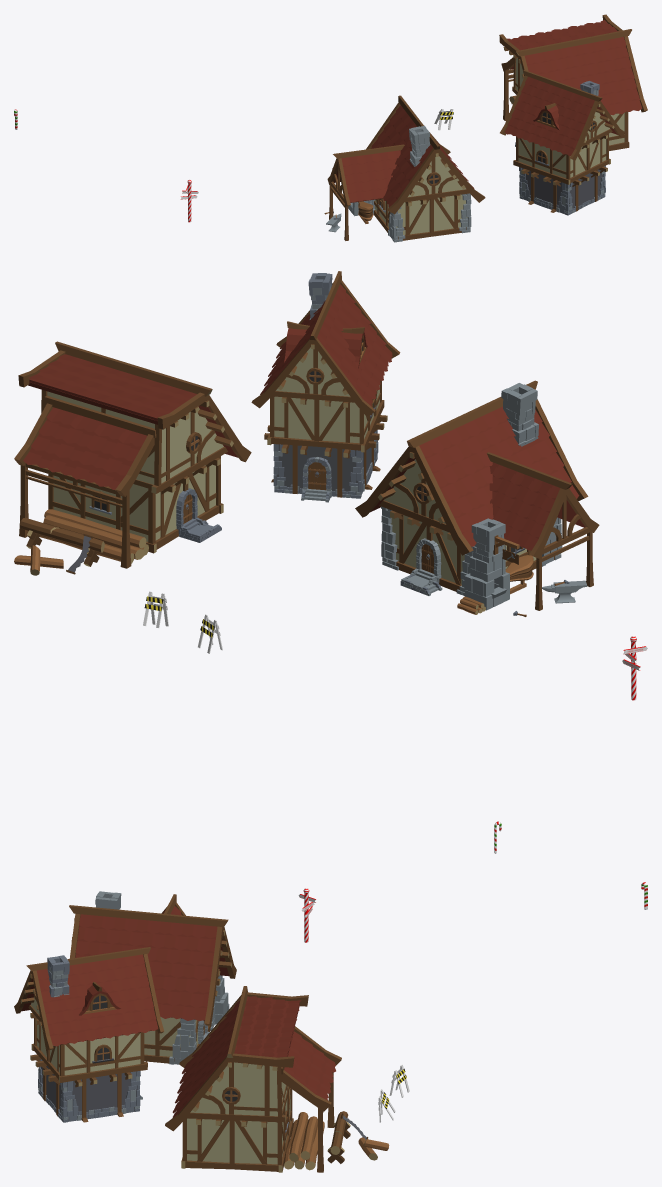
The model's file is Village.glb.
The picture shows the model from 3 angles, top to bottom: view 1: azimuth 30°, elevation 25°; view 2: azimuth 150°, elevation 25°; view 3: azimuth 270°, elevation 25°; orthographic projection. The views are drawn at different scales.
Visible parts, largest first — view 1: Blacksmith, House_1, Sawmill; view 2: Sawmill, Blacksmith, House_1; view 3: Sawmill, House_1, Blacksmith.
Boxes of the visible parts, x1,y1,x2,y2 form: Blacksmith: [324, 95, 485, 242]; House_1: [500, 70, 625, 215]; Sawmill: [499, 14, 647, 150]; Sawmill: [14, 341, 251, 575]; Blacksmith: [355, 380, 599, 616]; House_1: [251, 271, 400, 502]; Sawmill: [165, 986, 389, 1172]; House_1: [14, 947, 164, 1122]; Blacksmith: [69, 891, 236, 1064].
Size of the model in its own units: 95.52 by 26.86 by 89.61.
21 materials, 2 textured.
